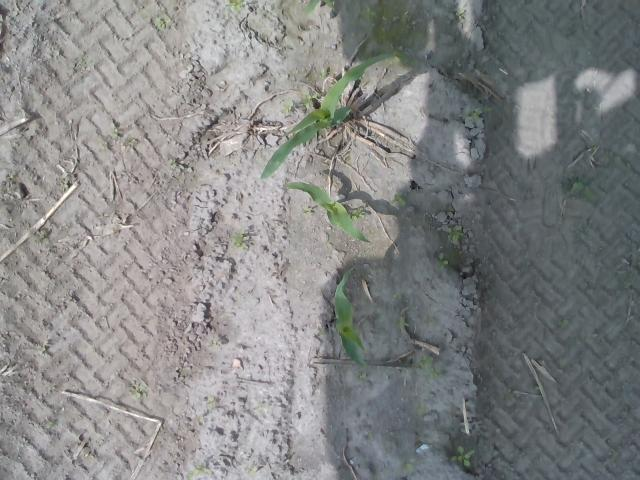Maize: (261, 49, 398, 181), (285, 180, 372, 244), (332, 267, 376, 366)
Weeds: (450, 446, 478, 468), (414, 354, 440, 376), (391, 9, 416, 24), (570, 181, 592, 198), (186, 465, 209, 480), (132, 383, 150, 400), (447, 224, 462, 242), (434, 253, 449, 269), (303, 92, 320, 106), (392, 317, 407, 332), (232, 234, 246, 248), (402, 459, 416, 473), (351, 208, 366, 221), (108, 122, 119, 139), (315, 67, 328, 81), (392, 192, 407, 204), (417, 404, 431, 416), (282, 100, 294, 113), (364, 7, 378, 18), (226, 0, 241, 10), (467, 109, 480, 120), (167, 158, 179, 168), (156, 17, 164, 30)
